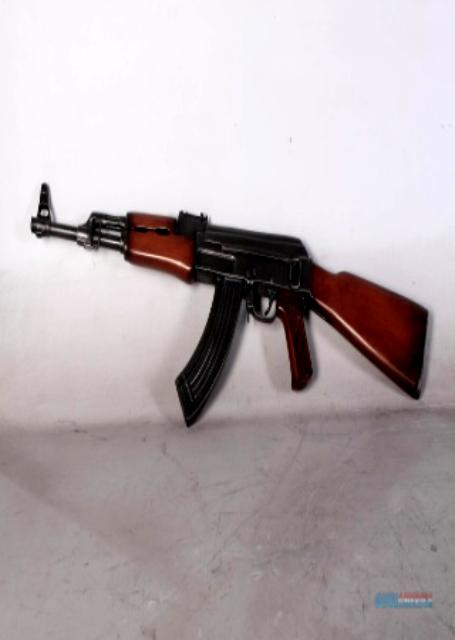rifle: (16, 166, 432, 428)
